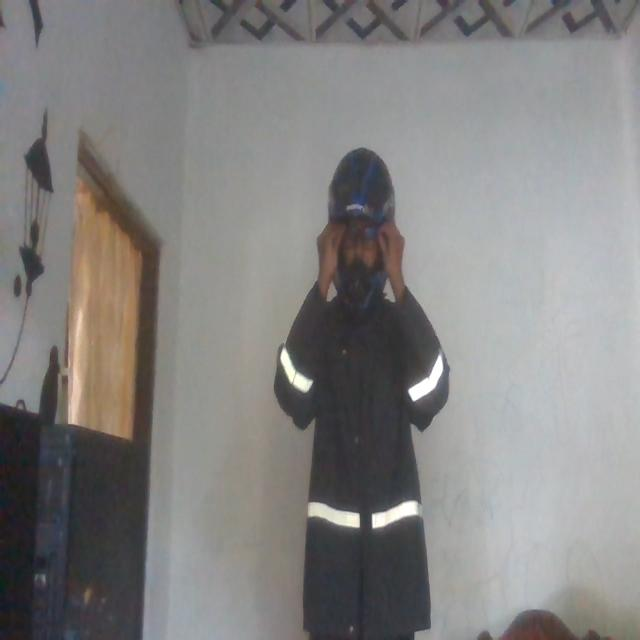Helmet_Wearer: (308, 132, 402, 297)
Jacket_Wearer: (276, 268, 446, 640)
Person: (280, 136, 446, 640)
